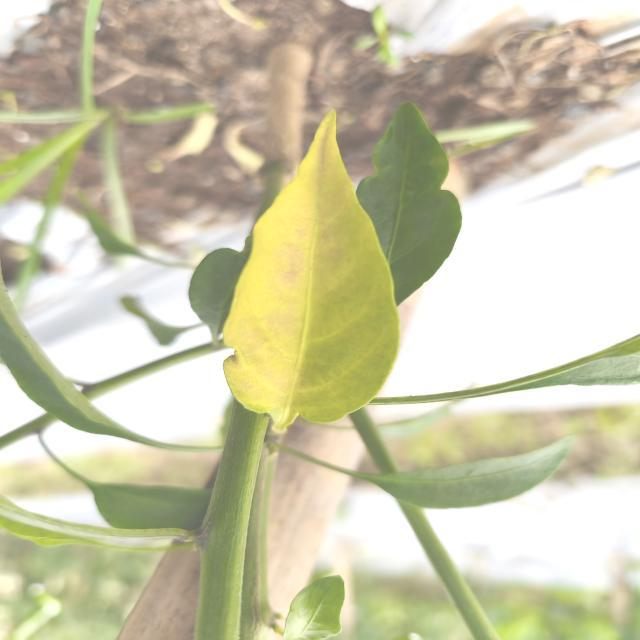Virus Kuning: (222, 109, 402, 433)
